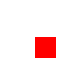square: (35, 37, 55, 57)
